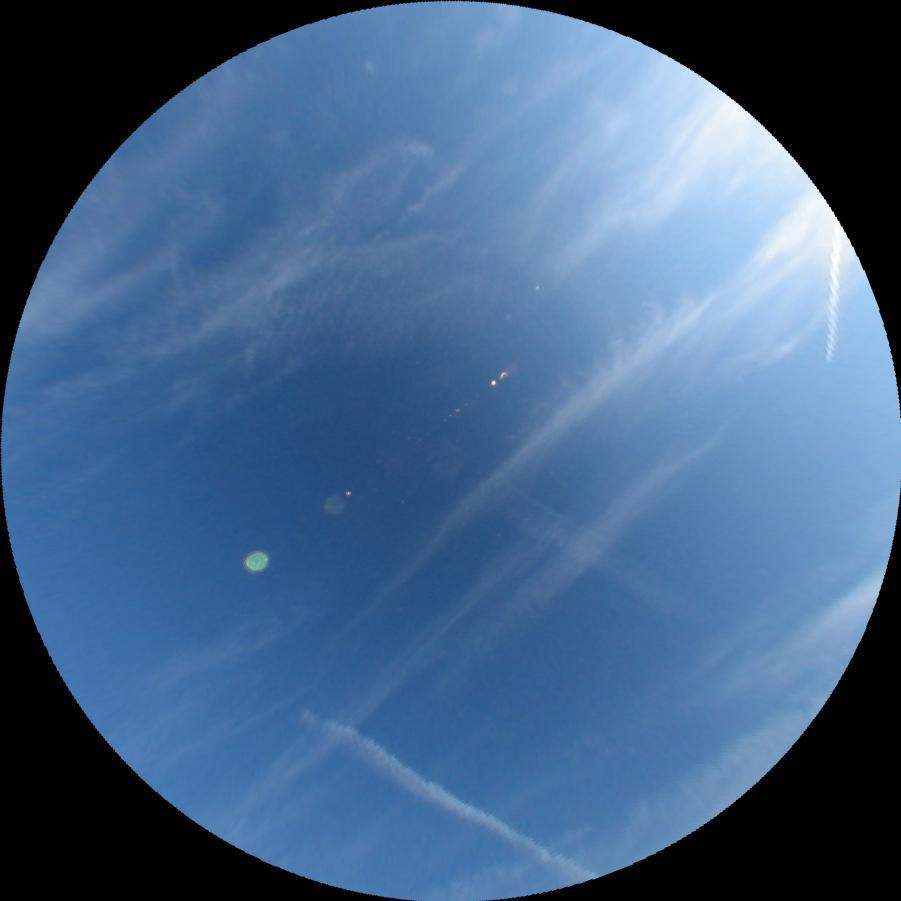contrail veryold: (409, 426, 718, 649), (299, 701, 597, 894)
contrail young: (826, 218, 842, 361)
